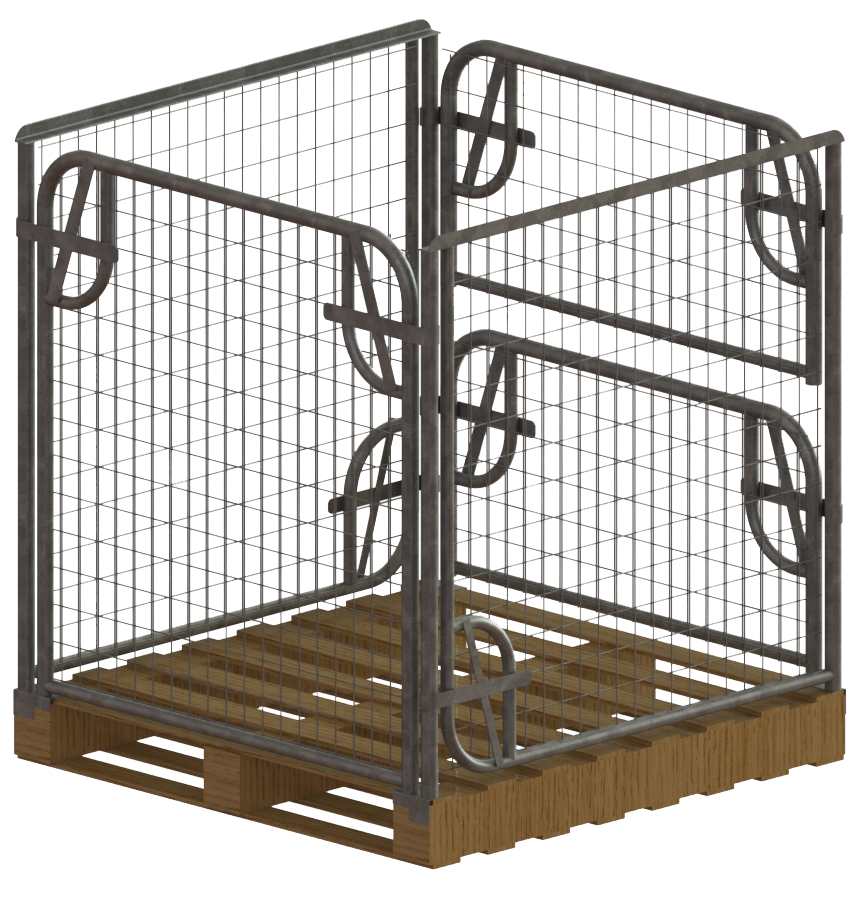pallet: (1, 572, 856, 855)
